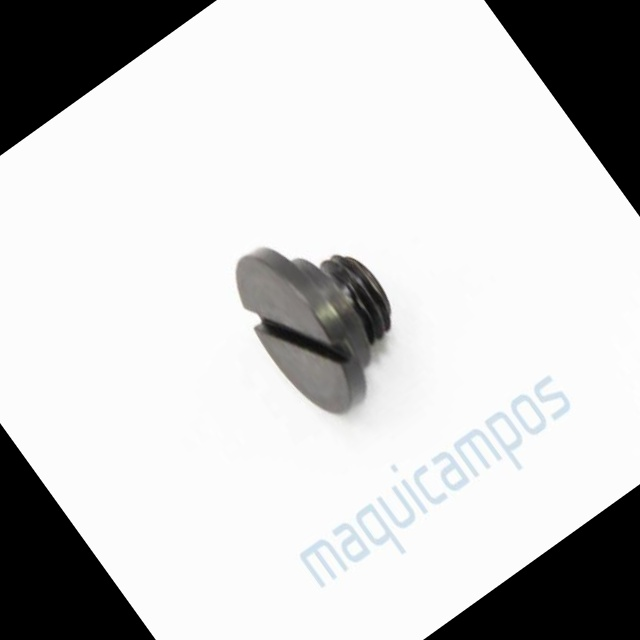duz: (210, 227, 392, 435)
